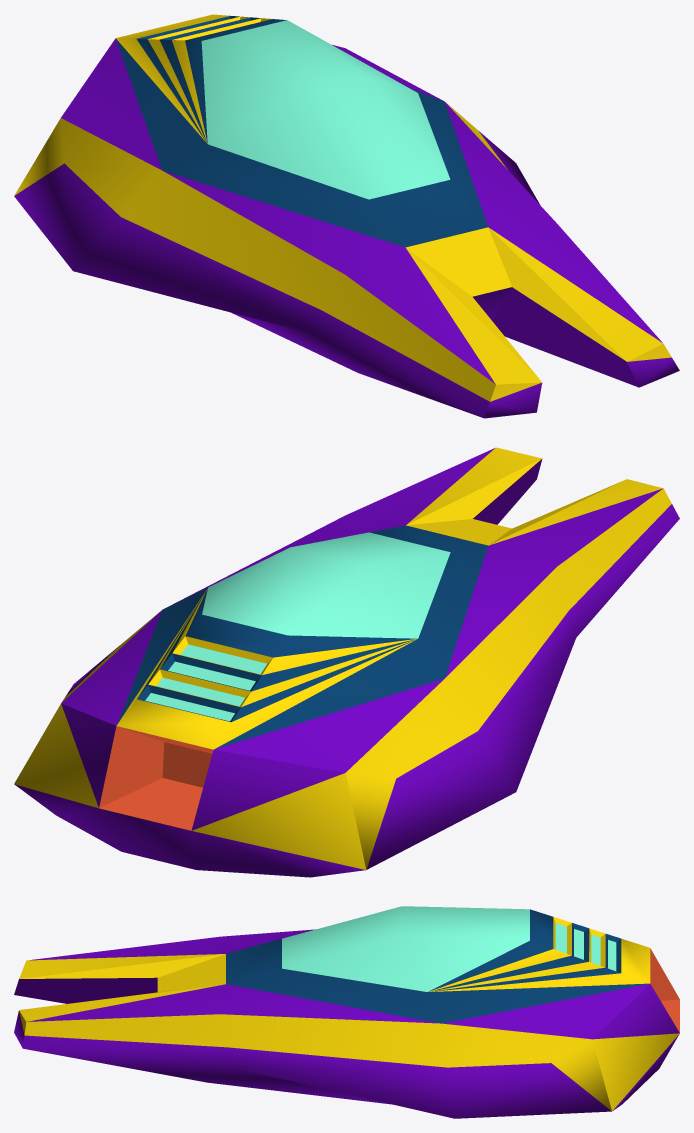
The model's file is ship_01.FBX.
3 views of the same model, one above another, from view 1: azimuth 30°, elevation 25°; view 2: azimuth 150°, elevation 25°; view 3: azimuth 270°, elevation 25° (orthographic). The views are drawn at different scales.
Visible parts, largest first — view 1: Box001; view 2: Box001; view 3: Box001.
Part boxes in pixels (left/top/right/bottom): Box001: left=14, top=14, right=679, bottom=418; Box001: left=14, top=447, right=679, bottom=877; Box001: left=14, top=906, right=679, bottom=1118.
Bounding box in the file's own units: 24.59 × 10.68 × 42.62.
